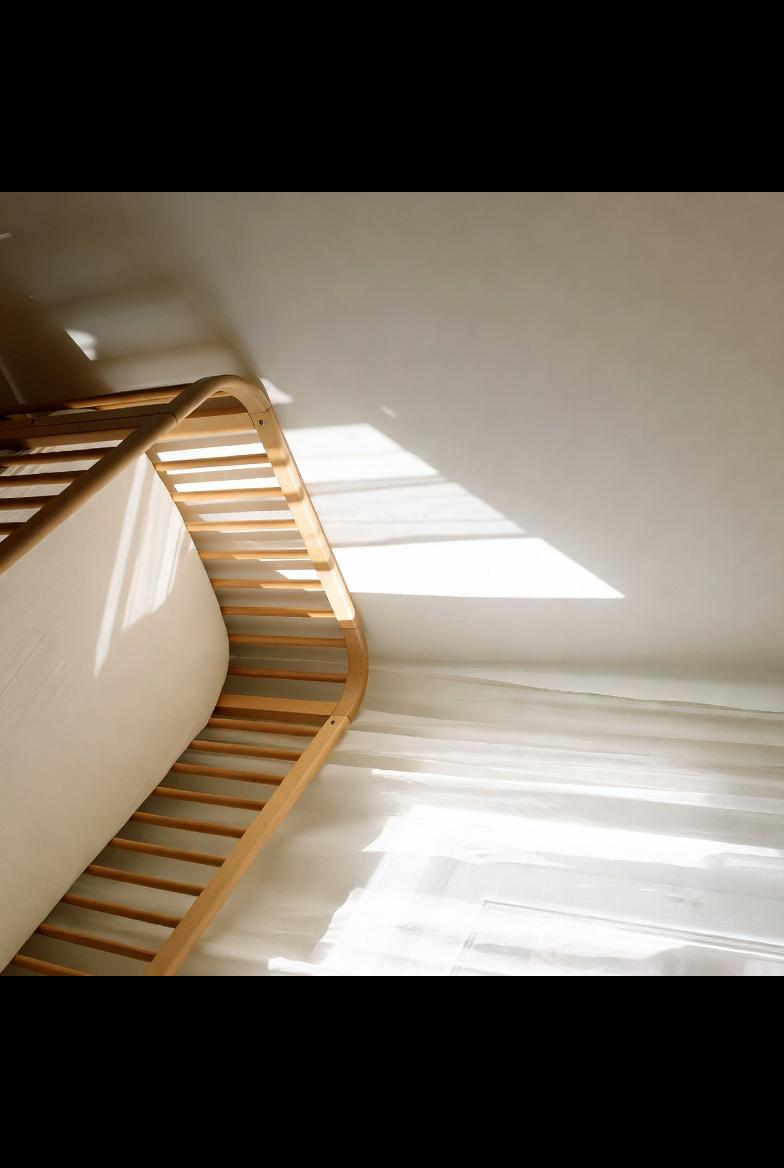crib: (0, 377, 367, 976)
